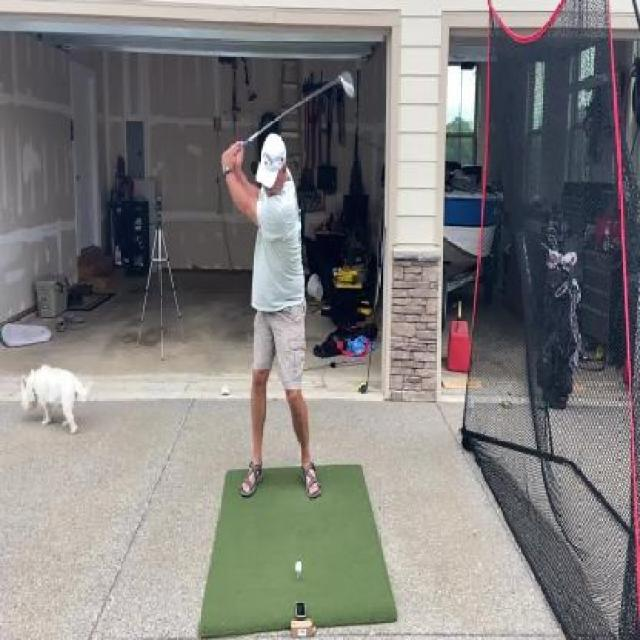club head: (336, 70, 356, 101)
